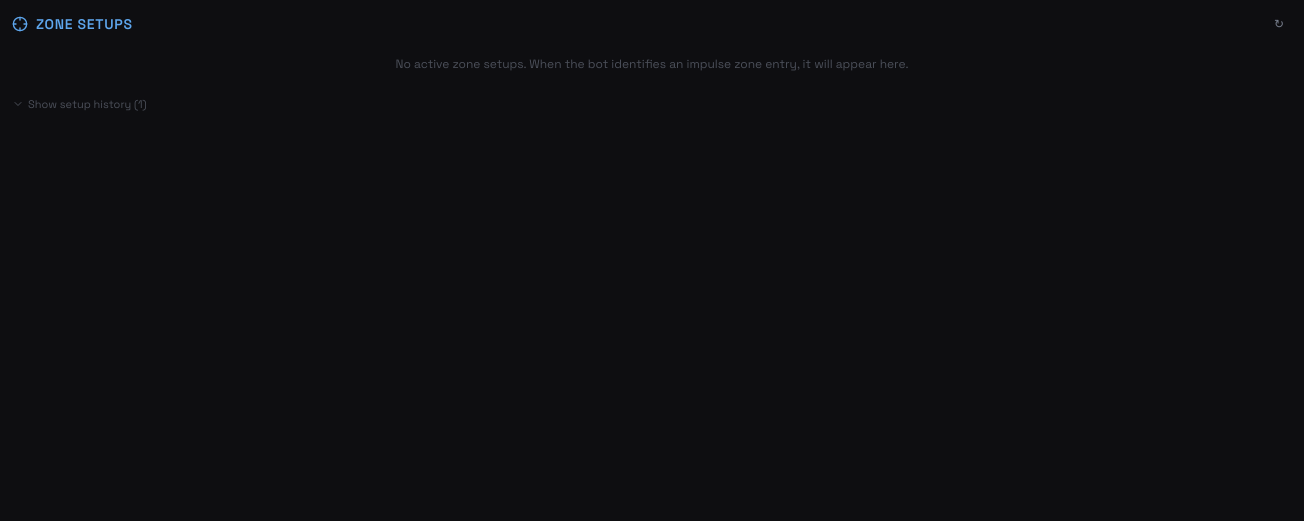
Test: each tier is labelled as itself › supporting signals render in full
Step 1. Click the button "Show setup history (1)" → (79, 104), box x1=12 y1=96 x2=147 y2=112
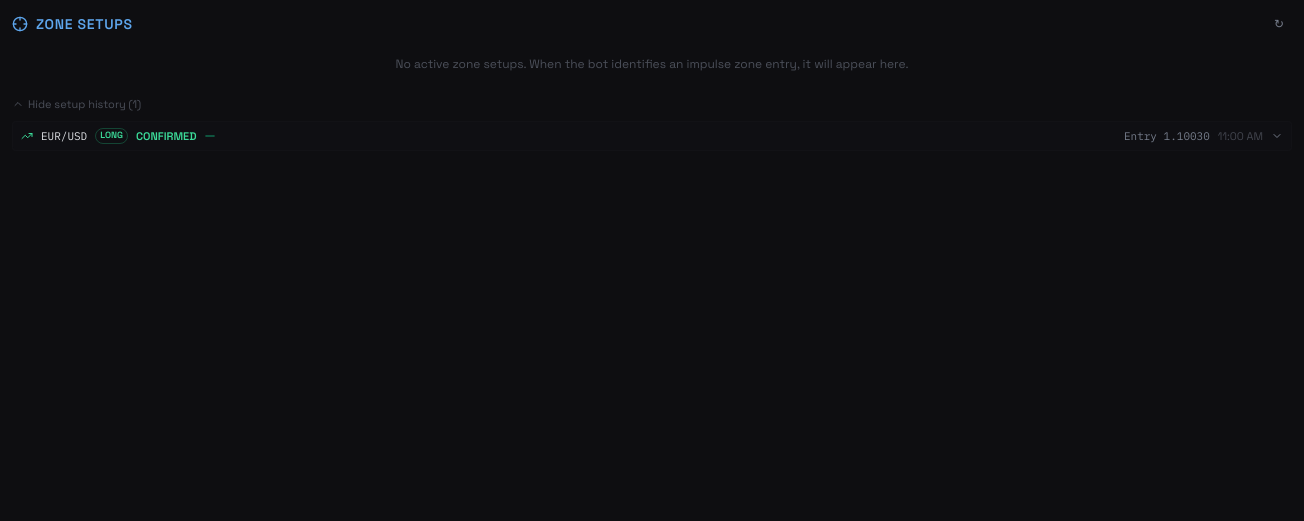
Step 2. Click the button "EUR/USD LONG CONFIRMED Entry 1.10030 11:00 AM" → (64, 136), box x1=13 y1=122 x2=1291 y2=150
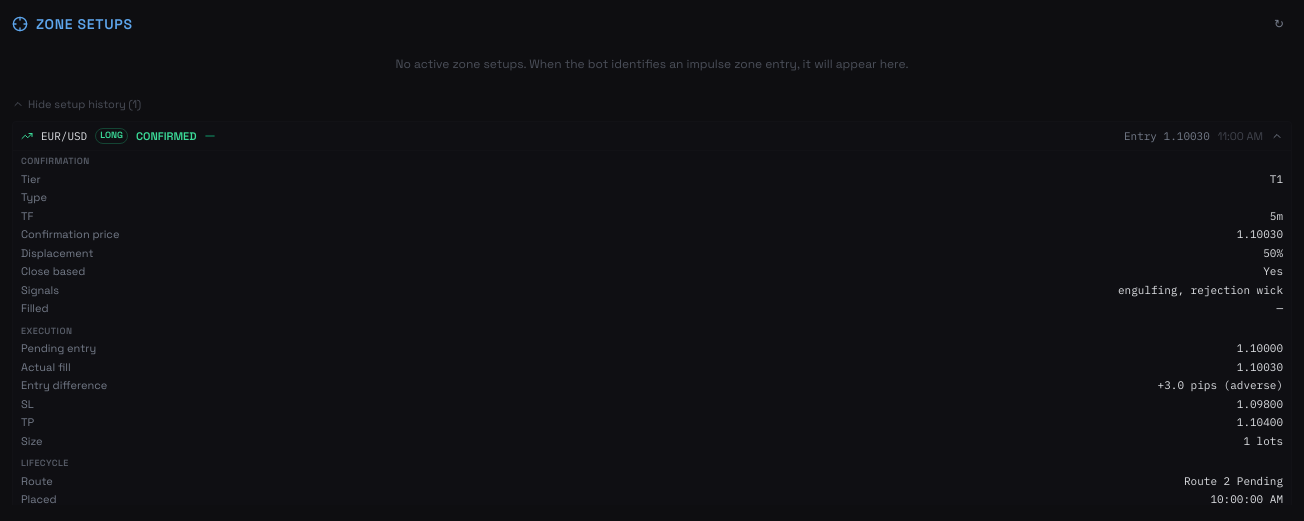
Check: the text "engulfing, rejection wick" is shown, box x1=1118 y1=282 x2=1283 y2=298
